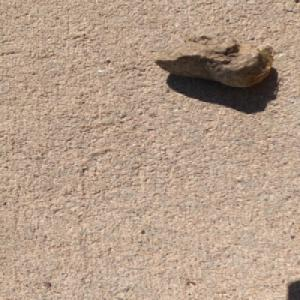Rock: (152, 24, 277, 88)
